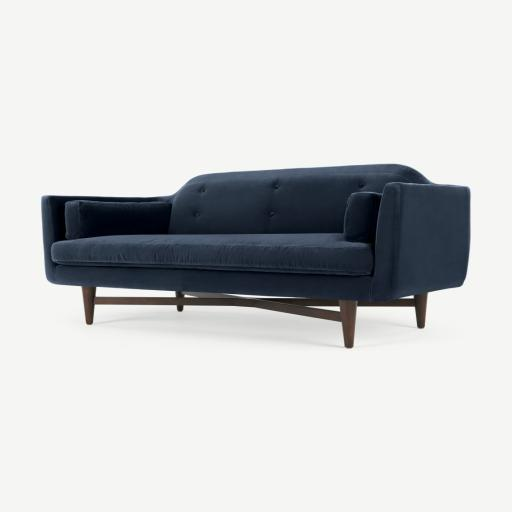back_cushion: (168, 169, 399, 234)
base: (50, 265, 448, 301)
left_arm: (371, 183, 470, 300)
legs: (83, 286, 357, 348), (359, 293, 427, 328)
one-seater: (42, 164, 470, 348)
right_arm: (41, 195, 159, 283)
seat_cushion: (51, 233, 373, 276)
